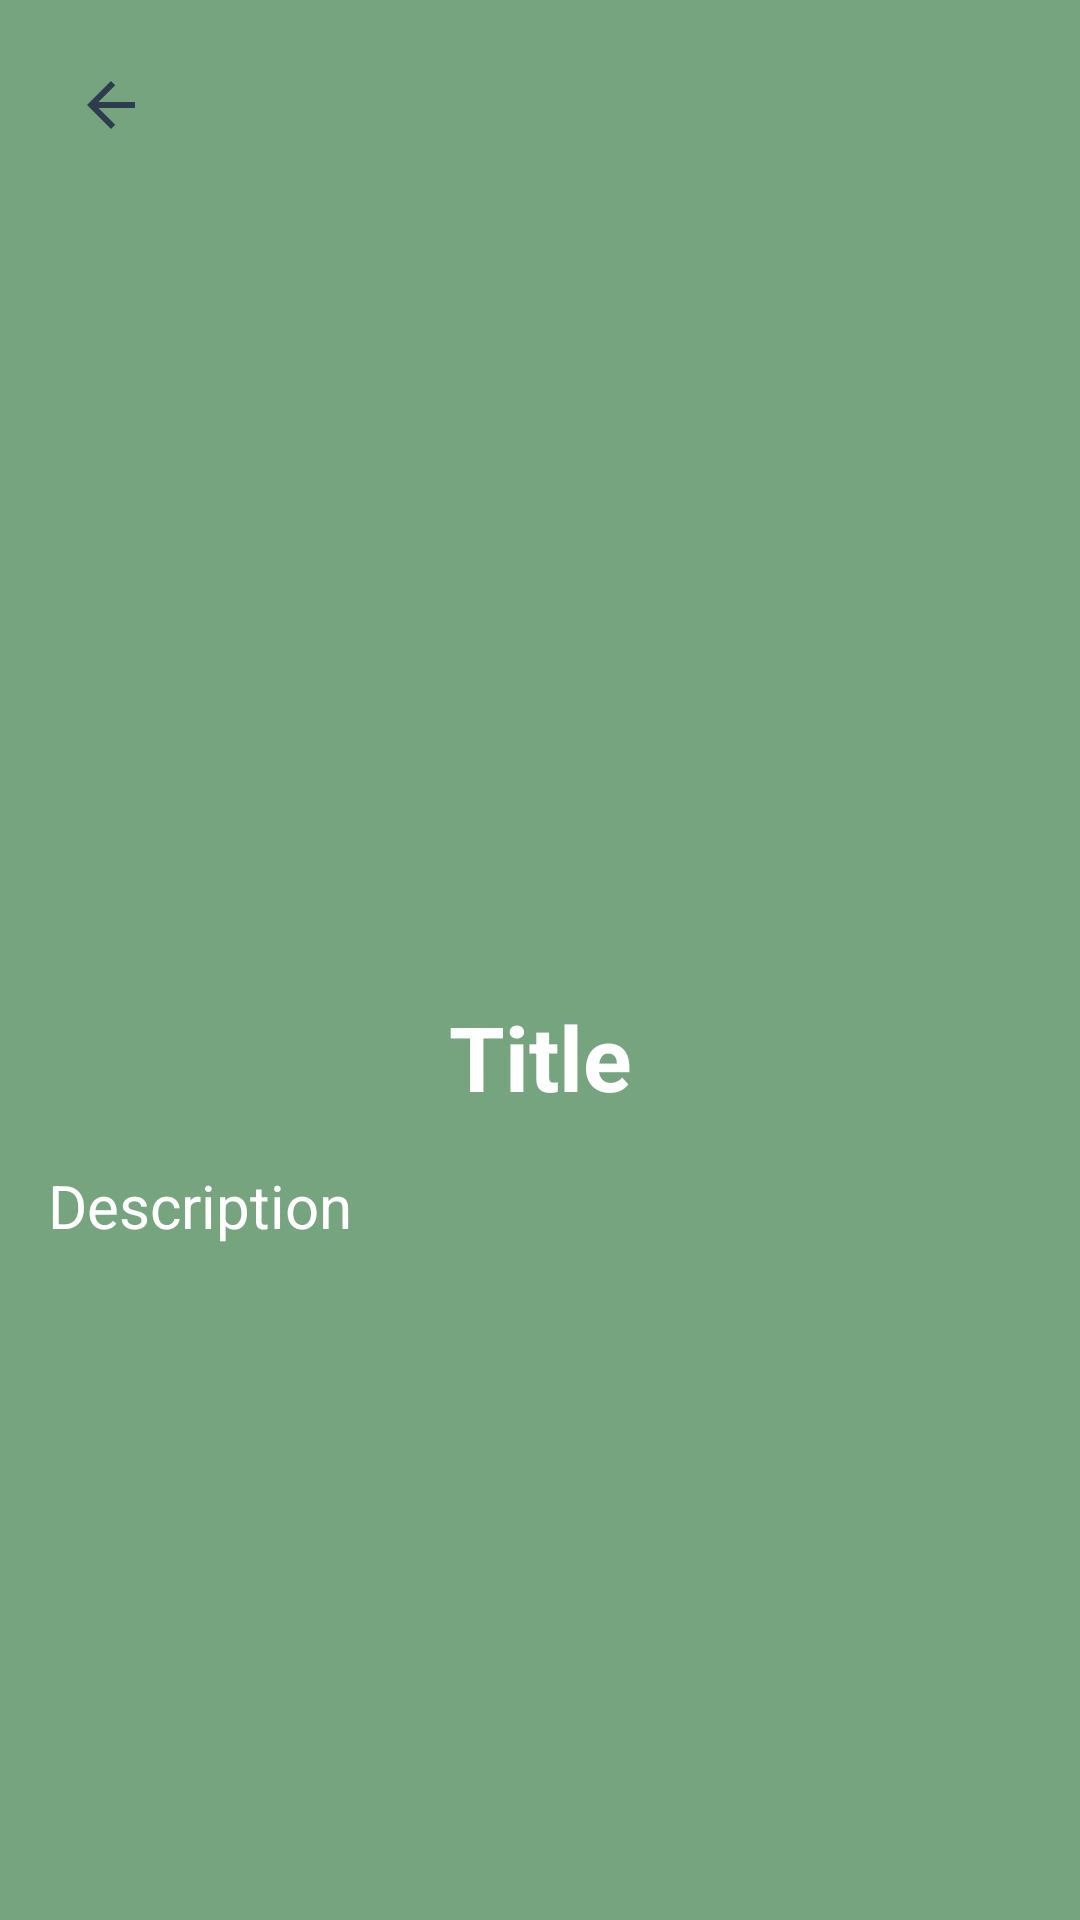

Icon bounding boxes for this 1080 × 1920 phone screenshot, format bbox=[x1, y1, x2, y2]:
arrow back: bbox=[87, 81, 135, 129]
